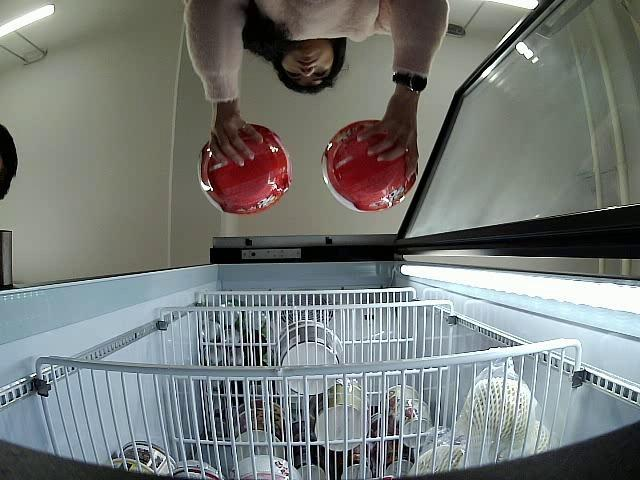10_wangTtukkeong: (322, 119, 418, 212), (198, 123, 292, 216)
